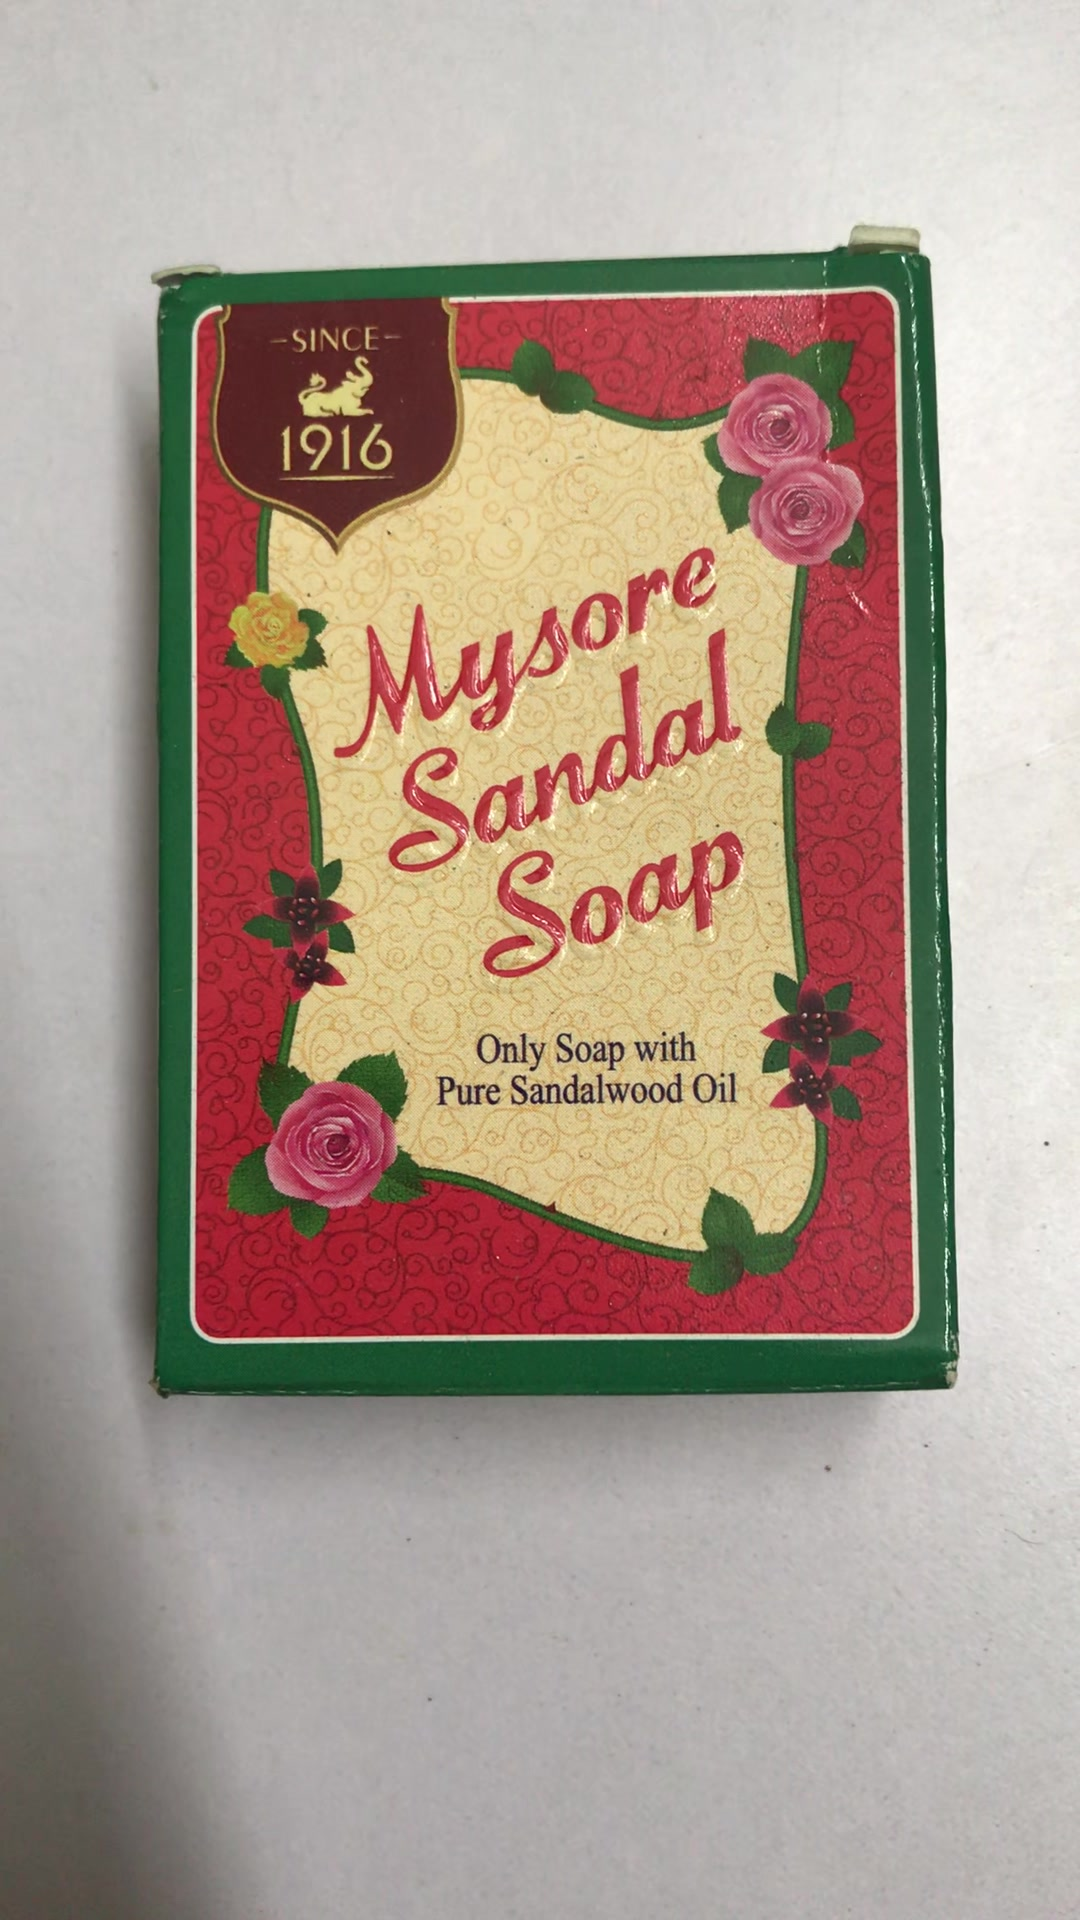mysore sandal soap: (160, 237, 961, 1396)
